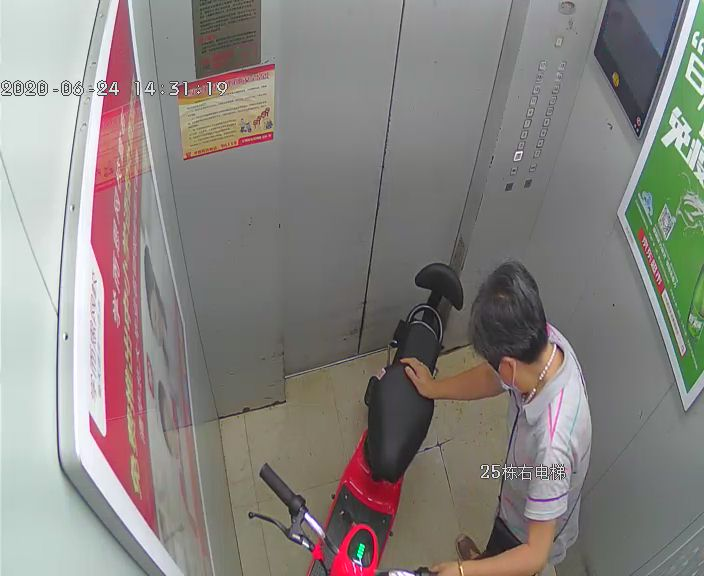Electric-bicycle: (254, 263, 459, 575)
